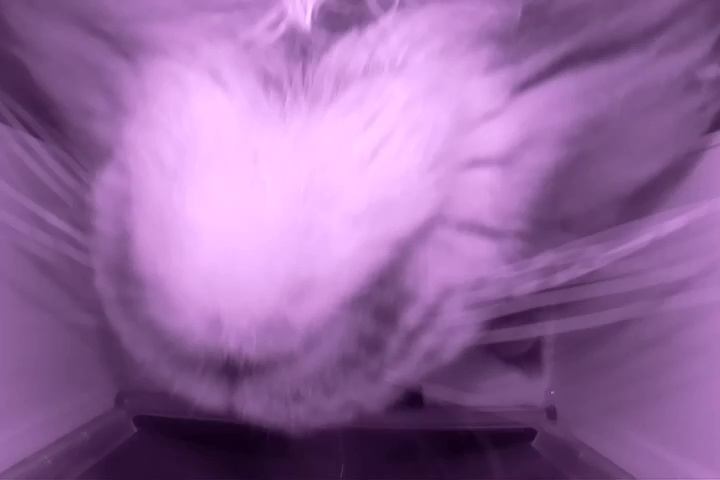Snout: (105, 176, 453, 439)
